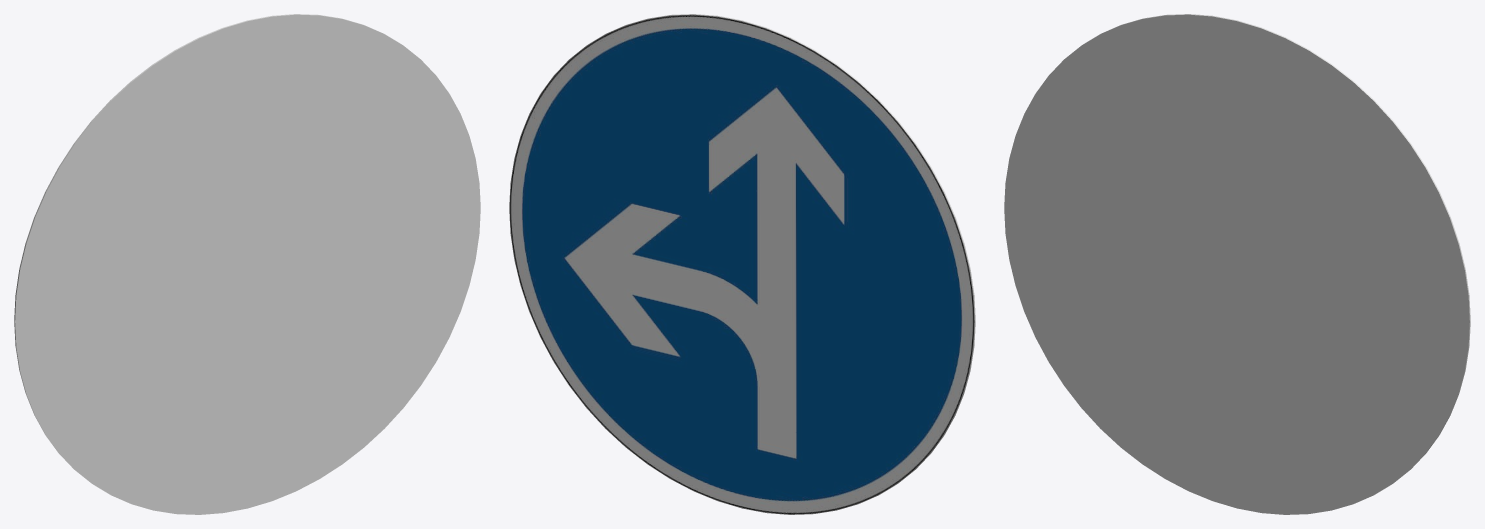
3 views of the same model, side by side, from view 1: azimuth 30°, elevation 25°; view 2: azimuth 150°, elevation 25°; view 3: azimuth 330°, elevation 25° (orthographic).
Visible parts, largest first — view 1: Circle; view 2: Circle; view 3: Circle.
Boxes of the visible parts, box(x1,y1,x2,y2) form: Circle: box(14, 14, 480, 514); Circle: box(509, 14, 975, 514); Circle: box(1004, 14, 1470, 514).
Bounding box in the file's own units: 0.6 × 0.6 × 0.002.
Materials: 2 (1 with a texture image).
